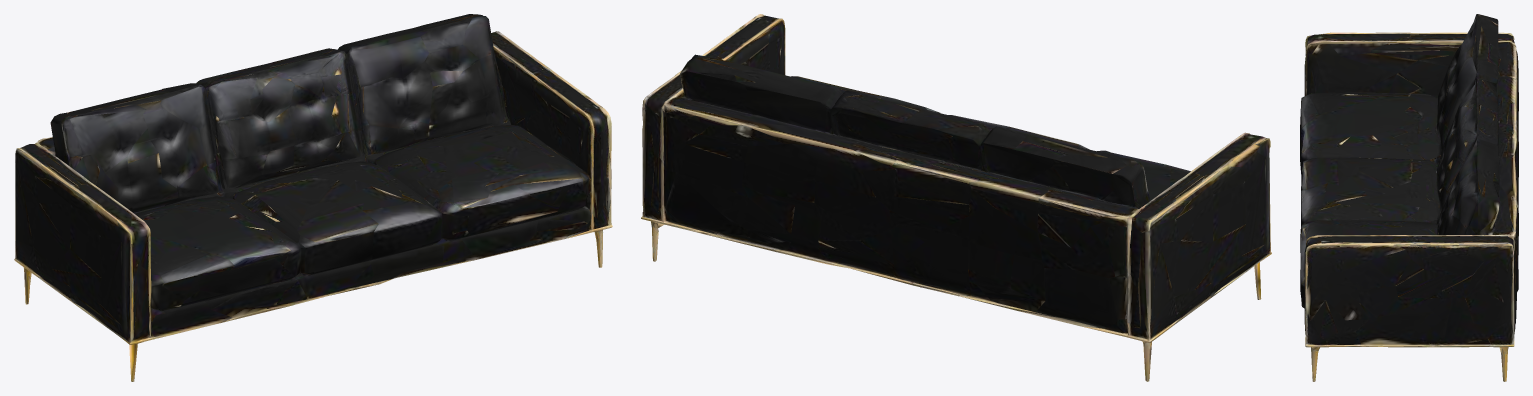
The model's file is lounge-sofa.glb.
The picture shows the model from 3 angles, left to right: view 1: azimuth 30°, elevation 25°; view 2: azimuth 150°, elevation 25°; view 3: azimuth 270°, elevation 25°; orthographic projection. The views are drawn at different scales.
Size of the model in its own units: 1.9 by 0.7197 by 0.8208.
Materials: 1 (1 with a texture image).
